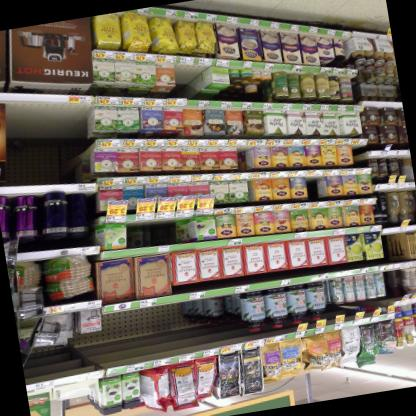empty_space: (7, 100, 92, 182), (102, 306, 137, 344), (134, 304, 162, 342), (174, 63, 209, 92), (159, 300, 185, 337), (153, 217, 178, 241), (174, 62, 189, 84), (308, 174, 322, 197), (352, 144, 366, 164), (129, 219, 150, 227)
